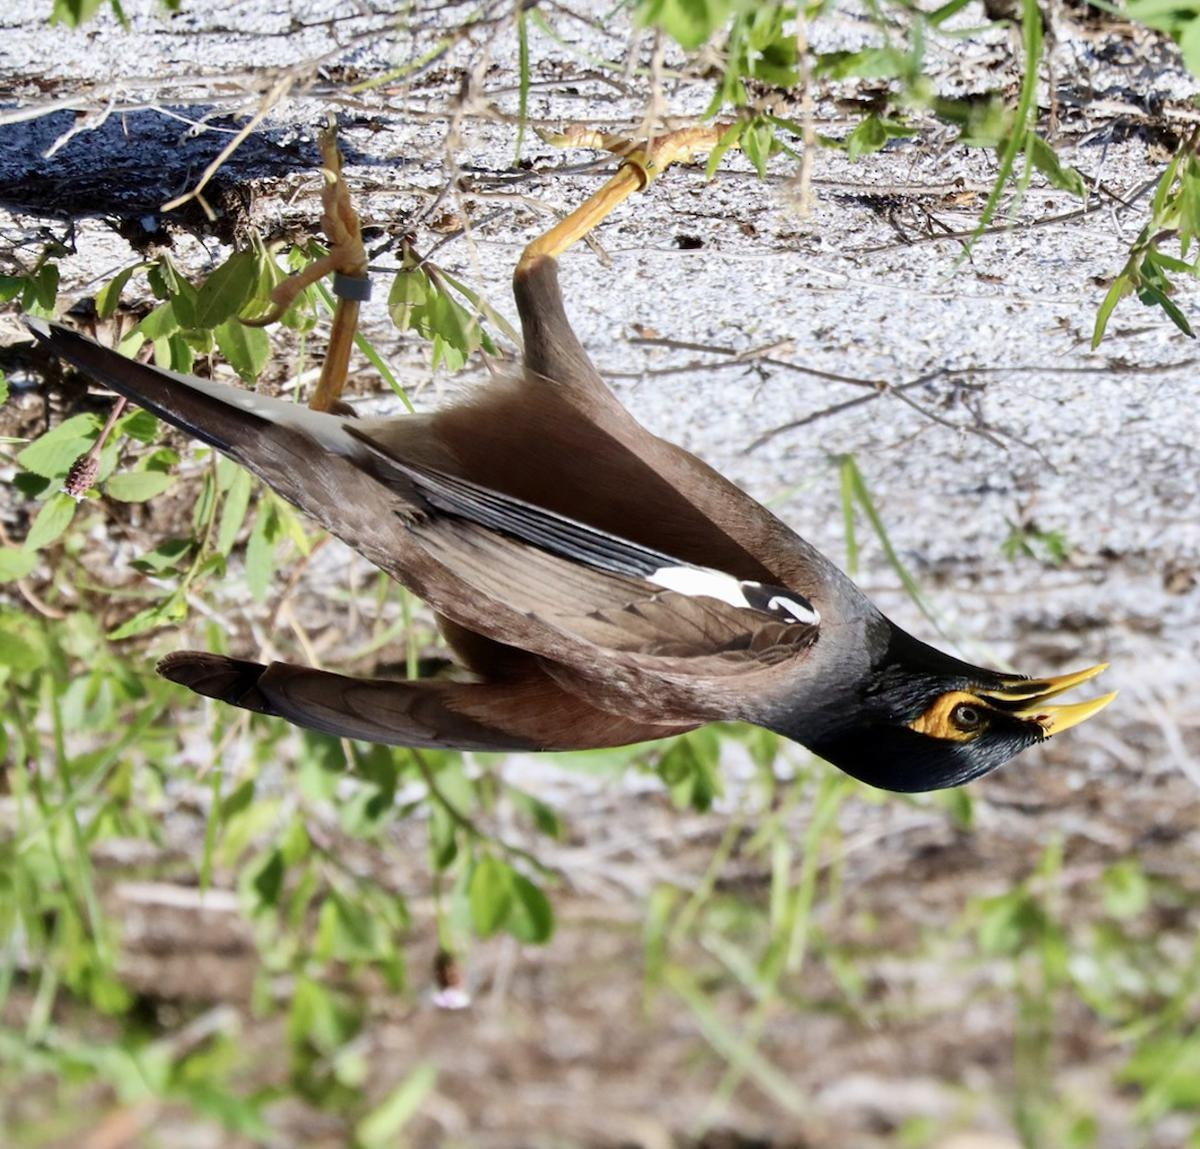myna: (142, 196, 1057, 824)
